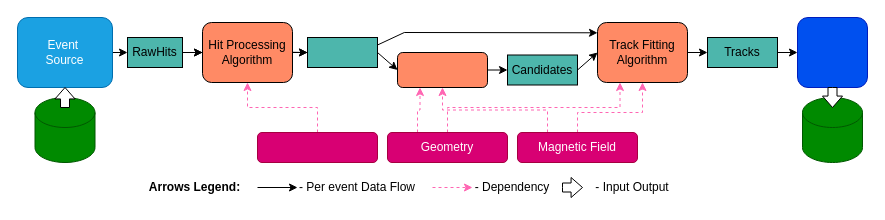
Image size: 885x220. Some labels were removed from this diagram. Here are the shapes that lost their labels. From the top down, the centre of each, then its label:
(x=342, y=52): HitClusters
(x=442, y=70): Track Finding Algorithm
(x=832, y=52): Output
(x=317, y=147): Calibrations
